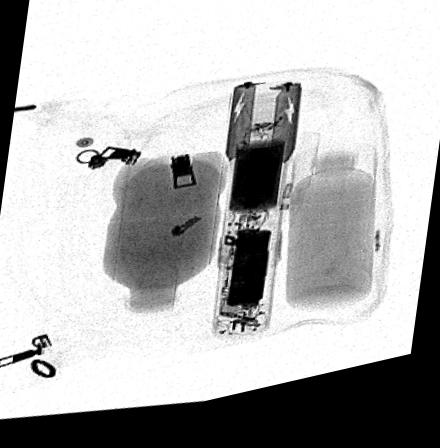Baton: (207, 91, 304, 352)
